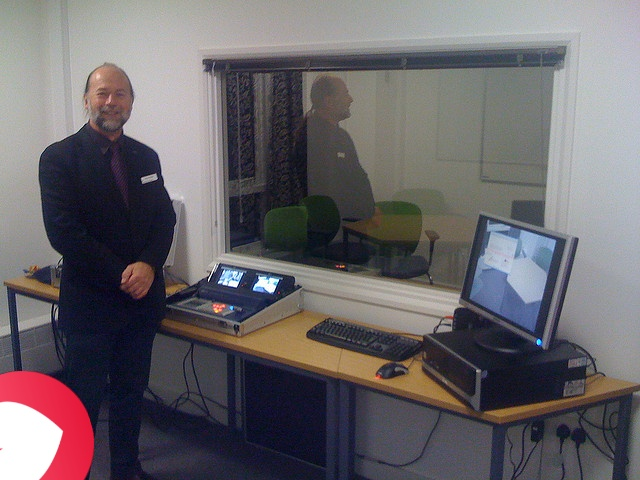love: (0, 371, 94, 480)
